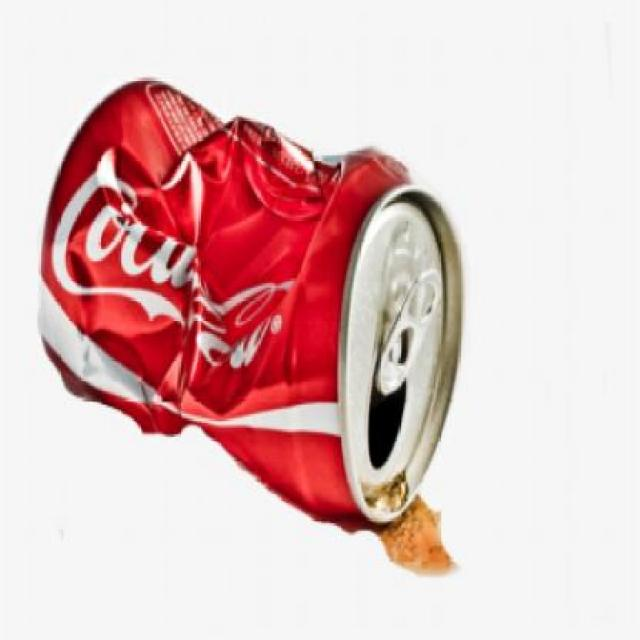non-organic waste: (31, 71, 484, 583)
